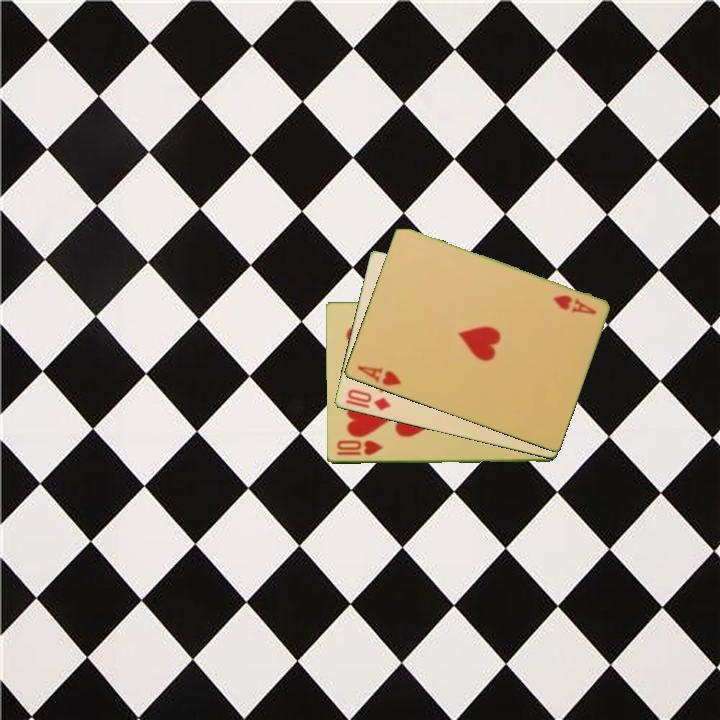10d: (343, 386, 393, 414)
10h: (333, 437, 386, 459)
Ah: (353, 362, 404, 389), (549, 292, 599, 318)
